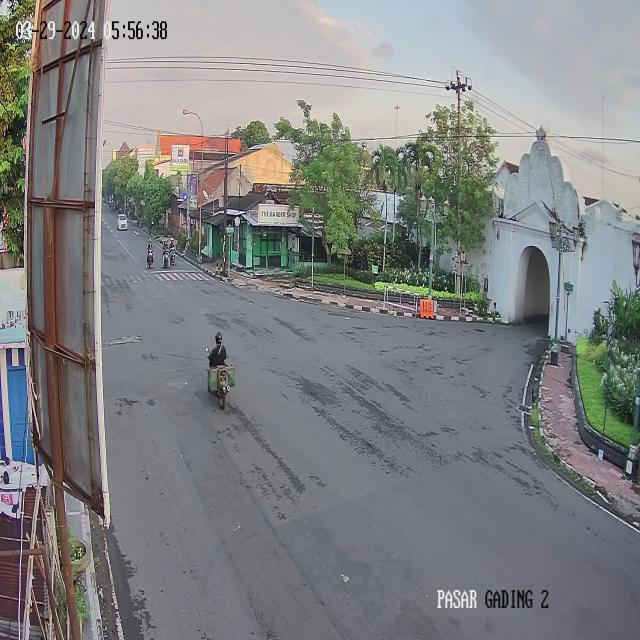car: (118, 216, 128, 232)
motorcycle: (206, 327, 231, 409), (168, 236, 177, 268), (146, 239, 155, 270), (162, 238, 169, 268)
